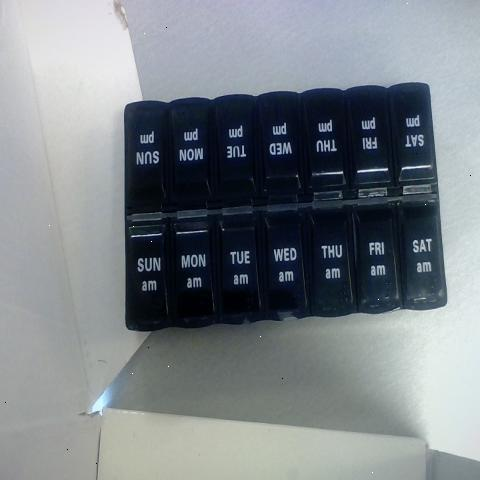FRI-am: (360, 210, 396, 305)
FRI-pm: (353, 88, 391, 196)
MON-am: (172, 222, 216, 325)
MON-pm: (174, 95, 216, 206)
SAT-am: (402, 205, 442, 301)
SAT-pm: (395, 85, 431, 189)
SUN-am: (134, 227, 168, 325)
SUN-pm: (130, 99, 168, 211)
THU-am: (314, 210, 355, 305)
THU-pm: (311, 90, 352, 198)
TUE-am: (222, 214, 263, 318)
TUE-pm: (219, 96, 262, 206)
WED-am: (267, 208, 308, 312)
WED-pm: (269, 89, 310, 202)
